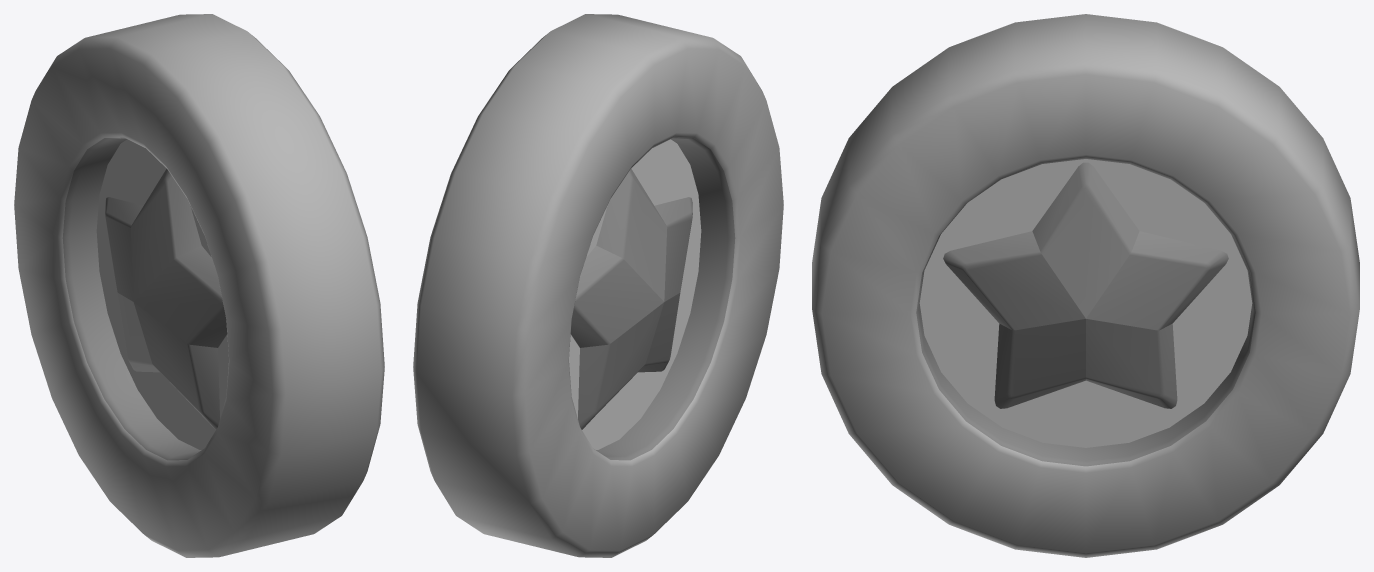
File: Coin_V1_00.fbx
3 renders of one model, left to right at view 1: azimuth 30°, elevation 25°; view 2: azimuth 150°, elevation 25°; view 3: azimuth 270°, elevation 25°, orthographic. The views are drawn at different scales.
Parts seen in each view (by area): view 1: Coin_V1_00; view 2: Coin_V1_00; view 3: Coin_V1_00.
Part boxes in pixels (x1,y1,x2,y2): Coin_V1_00: (14, 14, 384, 557); Coin_V1_00: (413, 14, 783, 557); Coin_V1_00: (812, 14, 1359, 557).
Bounding box in the file's own units: 12.19 × 43 × 43.
